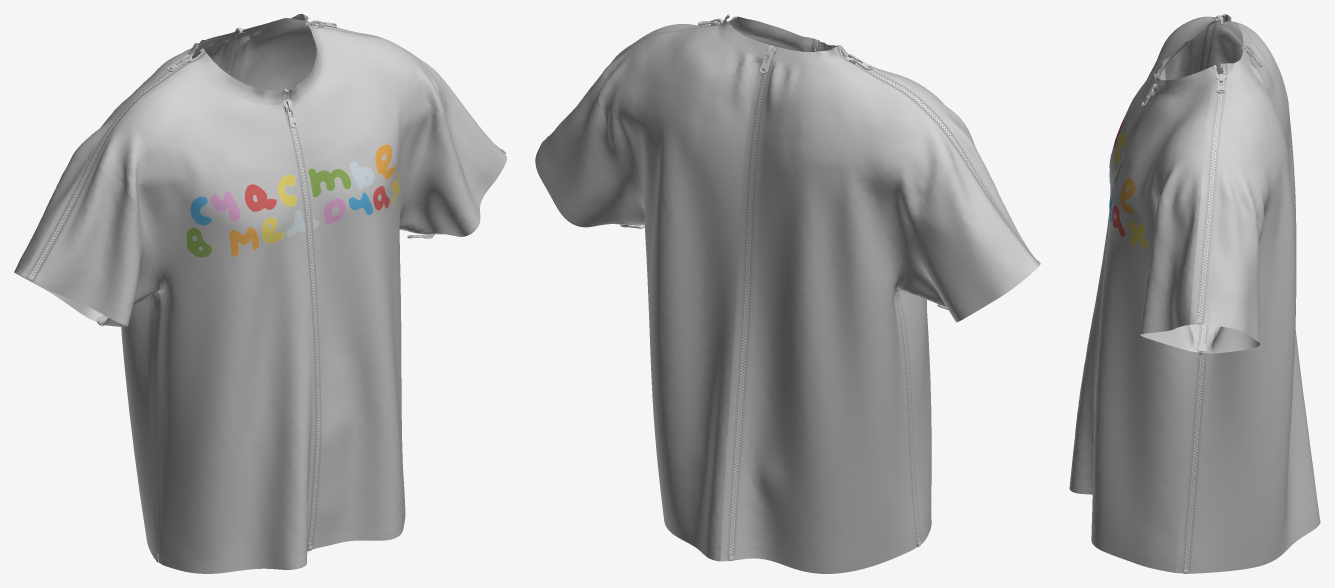
File: zip.glb
The picture shows the model from 3 angles, left to right: view 1: azimuth 30°, elevation 25°; view 2: azimuth 150°, elevation 25°; view 3: azimuth 270°, elevation 25°; orthographic projection. The views are drawn at different scales.
Parts seen in each view (by area): view 1: Cloth; view 2: Cloth; view 3: Cloth.
Part boxes in pixels (left/top/right/bottom): Cloth: left=14, top=14, right=506, bottom=573; Cloth: left=535, top=16, right=1039, bottom=573; Cloth: left=1069, top=14, right=1320, bottom=573.
Bounding box in the file's own units: 0.7491 × 0.7359 × 0.3452.
Materials: 79 (64 with a texture image).
